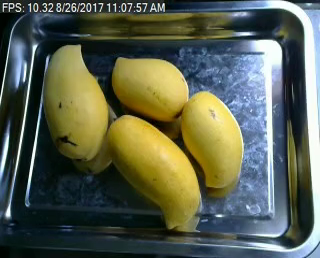Mango: (100, 111, 200, 230), (41, 45, 113, 162), (179, 89, 246, 185), (112, 52, 188, 121)
